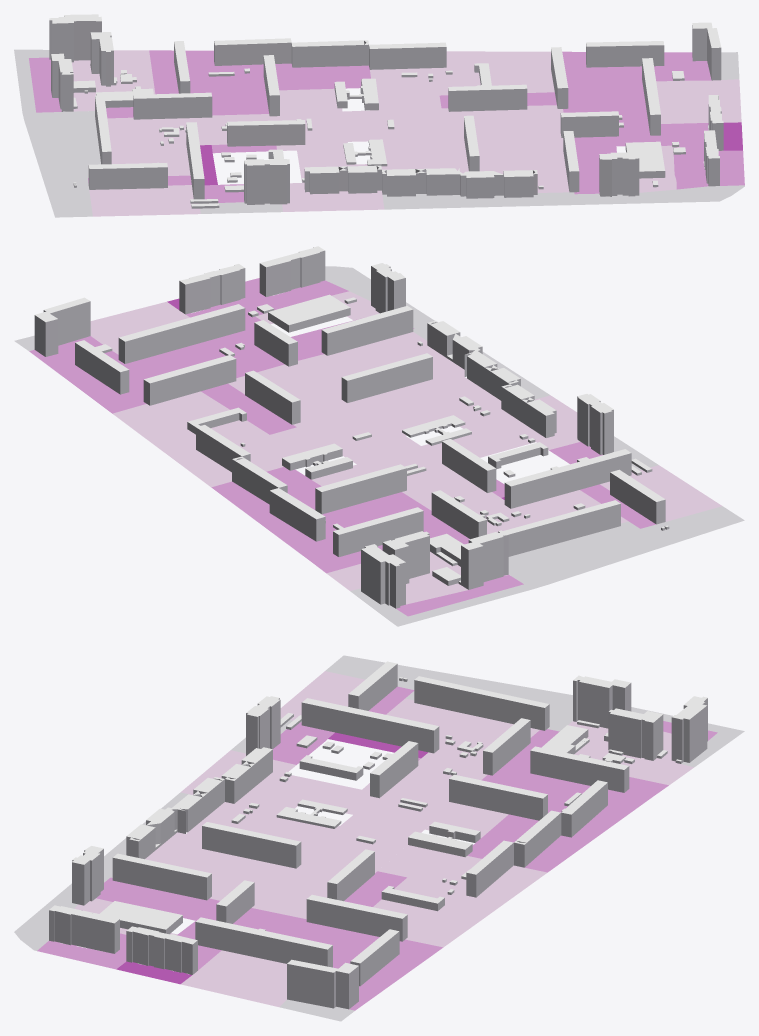
File: cells_vert_v13.dae
3 renders of one model, top to bottom at view 1: azimuth 30°, elevation 25°; view 2: azimuth 150°, elevation 25°; view 3: azimuth 270°, elevation 25°, orthographic. The views are drawn at different scales.
Visible parts, largest first — view 1: cell_low, wall, cell_mid, roof, cell_out, cell_high; view 2: wall, cell_low, cell_mid, roof, cell_out; view 3: wall, cell_low, roof, cell_mid, cell_out, cell_high.
Part boxes in pixels (x1,y1,x2,y2): cell_low: [72, 50, 741, 216]; wall: [49, 16, 723, 208]; cell_mid: [29, 50, 744, 202]; roof: [49, 14, 723, 206]; cell_out: [14, 49, 744, 217]; cell_high: [200, 122, 742, 185]; wall: [34, 247, 669, 608]; cell_low: [90, 291, 722, 604]; cell_mid: [29, 278, 655, 616]; roof: [35, 246, 668, 582]; cell_out: [14, 266, 744, 626]; wall: [49, 664, 707, 1009]; cell_low: [74, 671, 693, 1006]; roof: [49, 661, 707, 973]; cell_mid: [37, 686, 717, 1010]; cell_out: [14, 655, 744, 1021]; cell_high: [116, 732, 427, 984].
Size of the model in its own units: 923 by 779 by 51.
